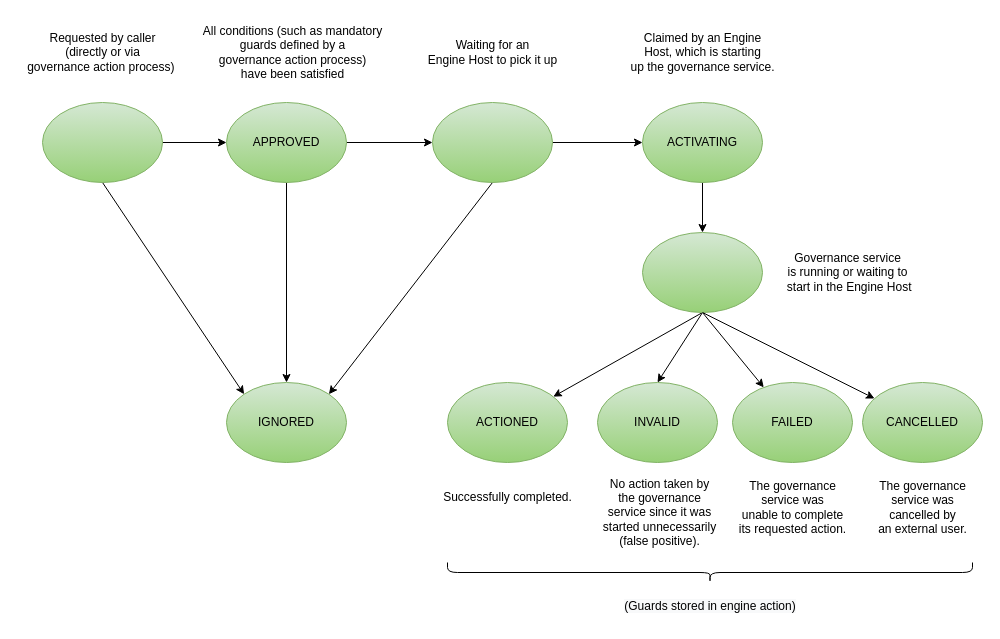
The diagram is 1000 pixels wide and 639 high, and some of its shapes have lost their labels. The shapes that lost their labels are listed below. From the top down, each one's centre as x and y in pixels, then its label:
the point at 102,142: REQUESTED
the point at 492,142: WAITING
the point at 702,272: IN_PROGRESS
